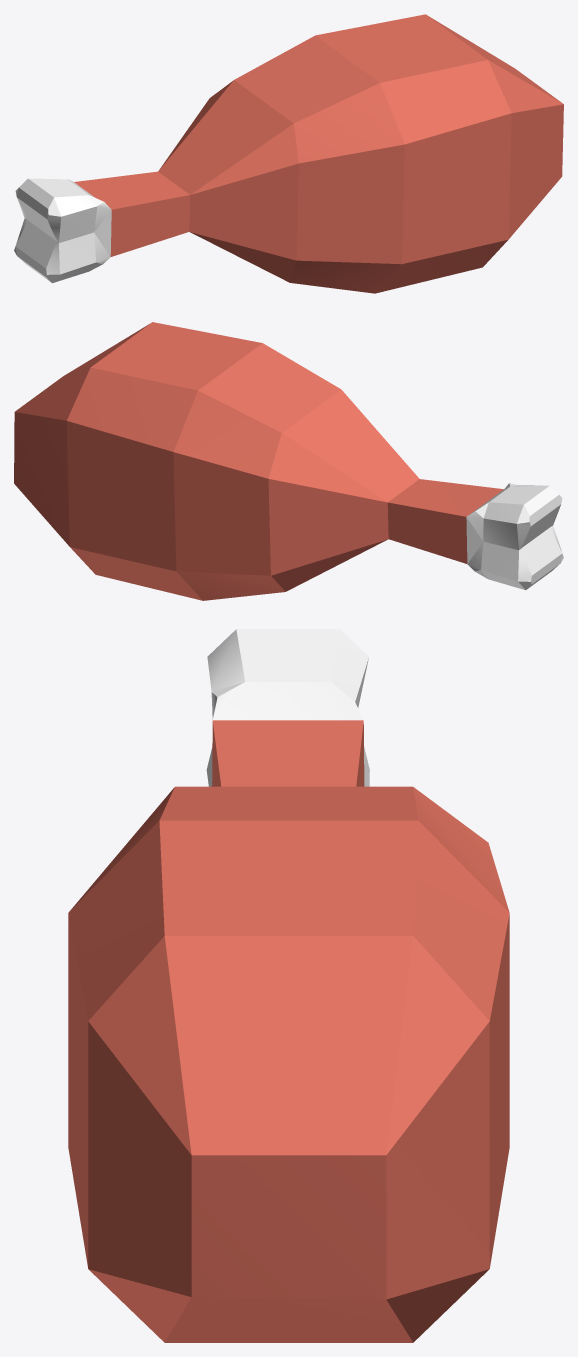
File: Chicken_02.fbx
3 views of the same model, one above another, from view 1: azimuth 30°, elevation 25°; view 2: azimuth 150°, elevation 25°; view 3: azimuth 270°, elevation 25° (orthographic). The views are drawn at different scales.
Parts seen in each view (by area): view 1: Chicken_02; view 2: Chicken_02; view 3: Chicken_02.
Boxes of the visible parts, <box> form: Chicken_02: <box>14,14,563,293</box>; Chicken_02: <box>14,322,563,600</box>; Chicken_02: <box>68,629,509,1342</box>.
Bounding box in the file's own units: 16.99 × 6.72 × 6.38.
